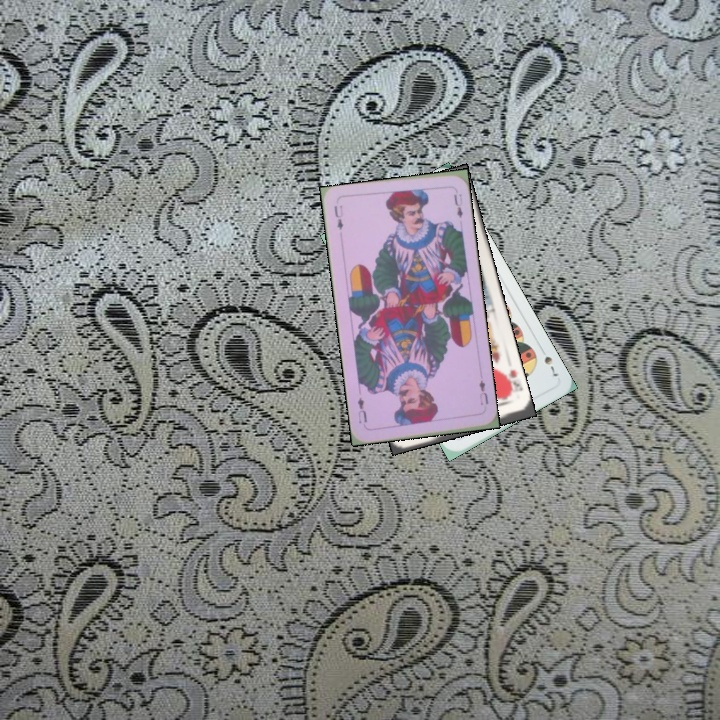EU: (475, 376, 491, 408), (330, 201, 346, 232)
HK: (499, 366, 524, 399)
S7: (540, 352, 562, 379)
